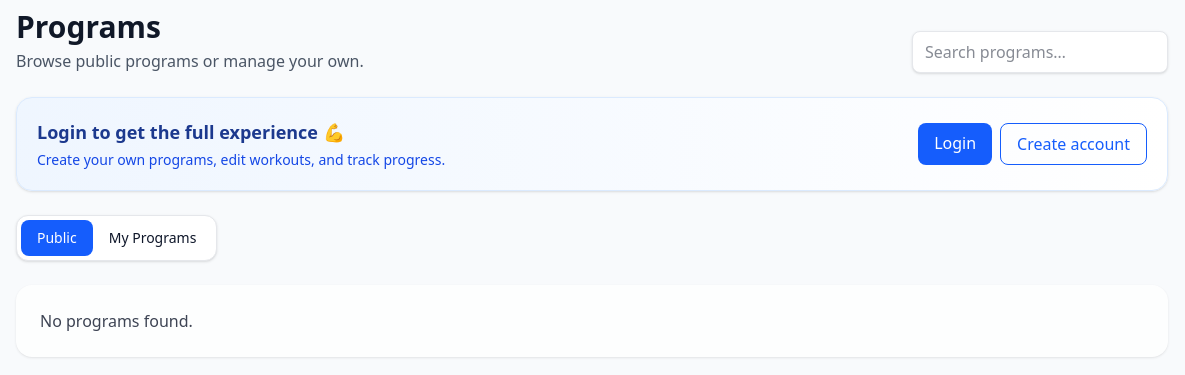
Scenario: Programs page › shows login prompt when switching to My Programs while logged out
# Click My Programs tab
Click the button "My Programs": [153, 238] box x1=93 y1=220 x2=212 y2=256
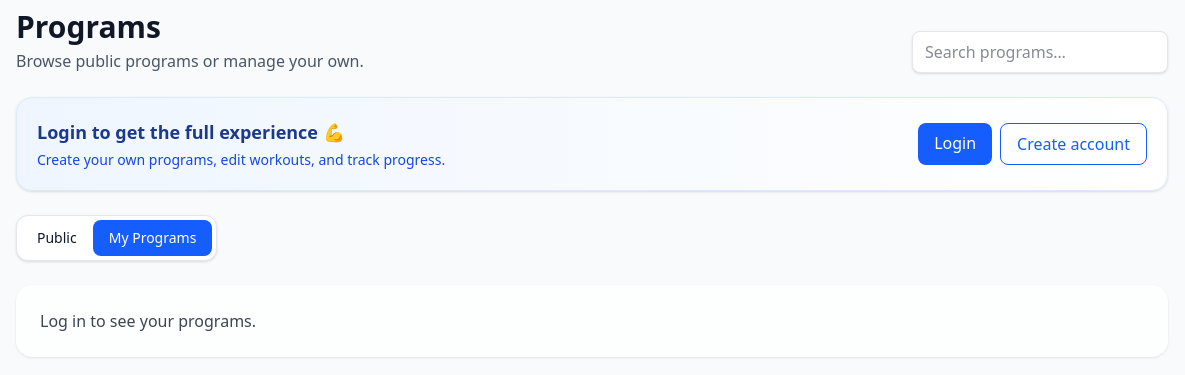
Check: the text "Log in to see your programs." is shown, box x1=16 y1=285 x2=1168 y2=357
